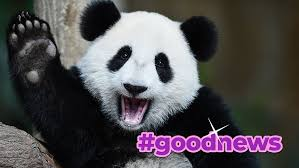panda: (4, 12, 221, 146)
